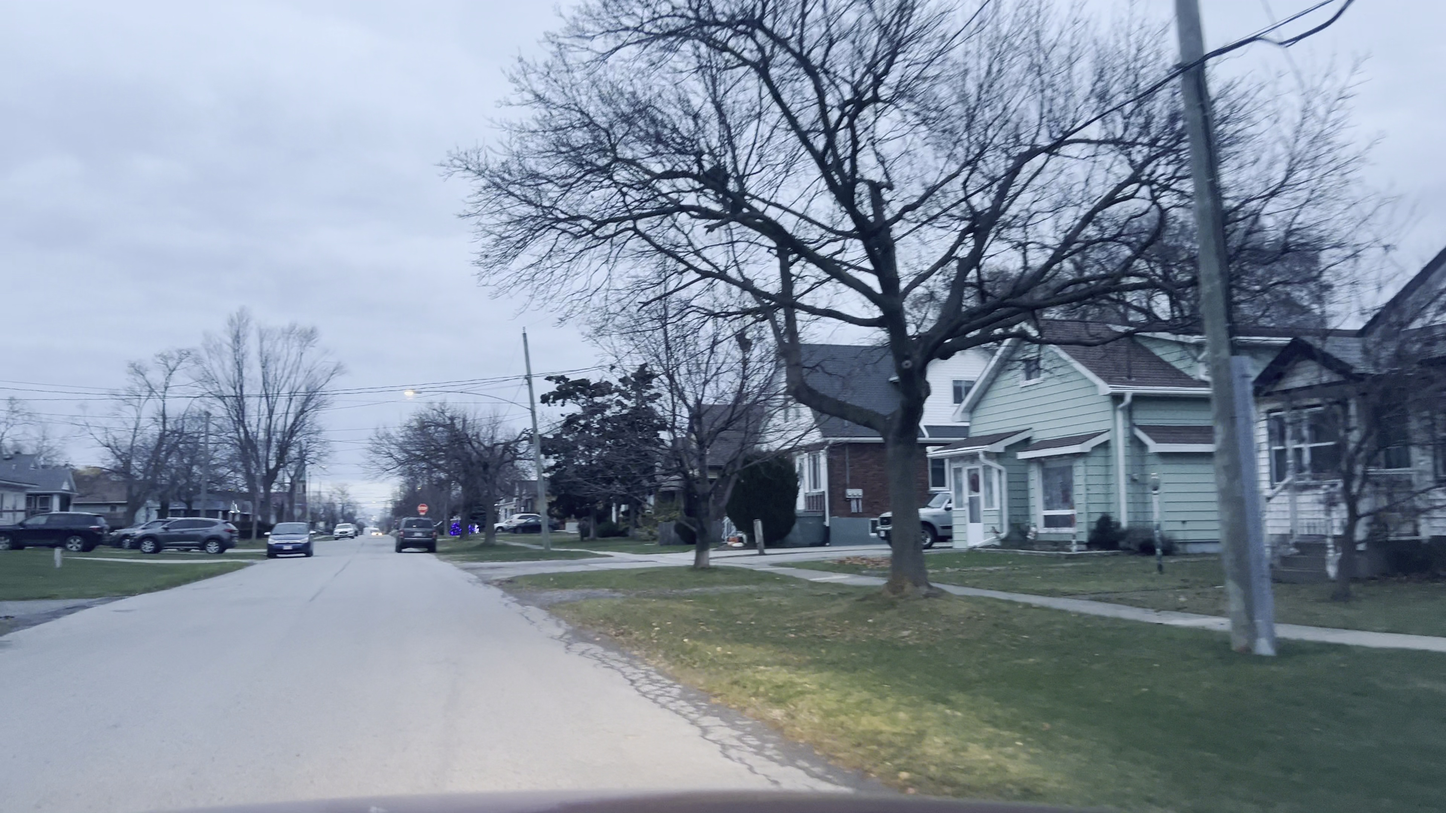cracks: (540, 622, 913, 793)
